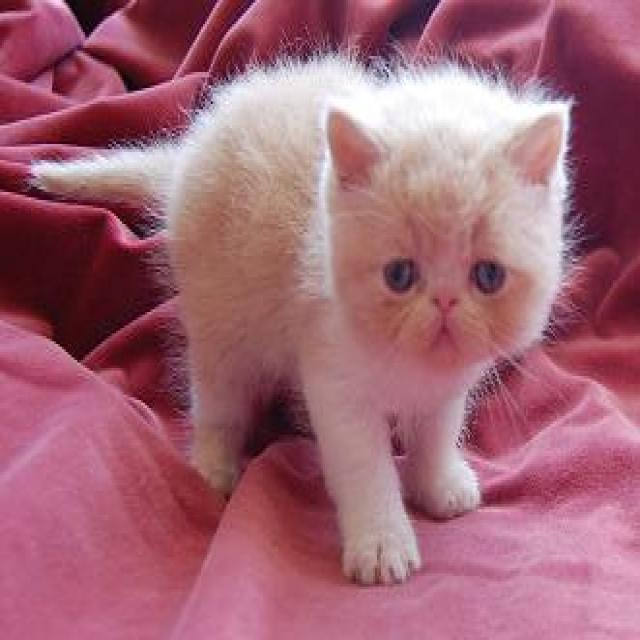cat: (30, 55, 571, 583)
